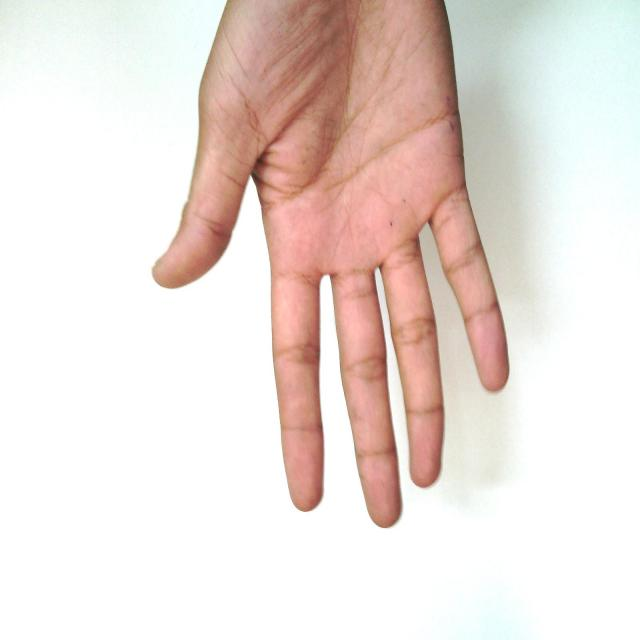others: (151, 1, 574, 538)
